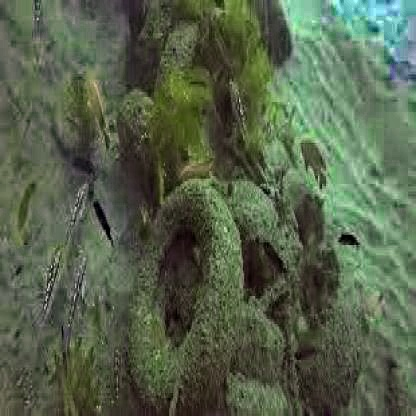tire: (127, 161, 250, 416)
